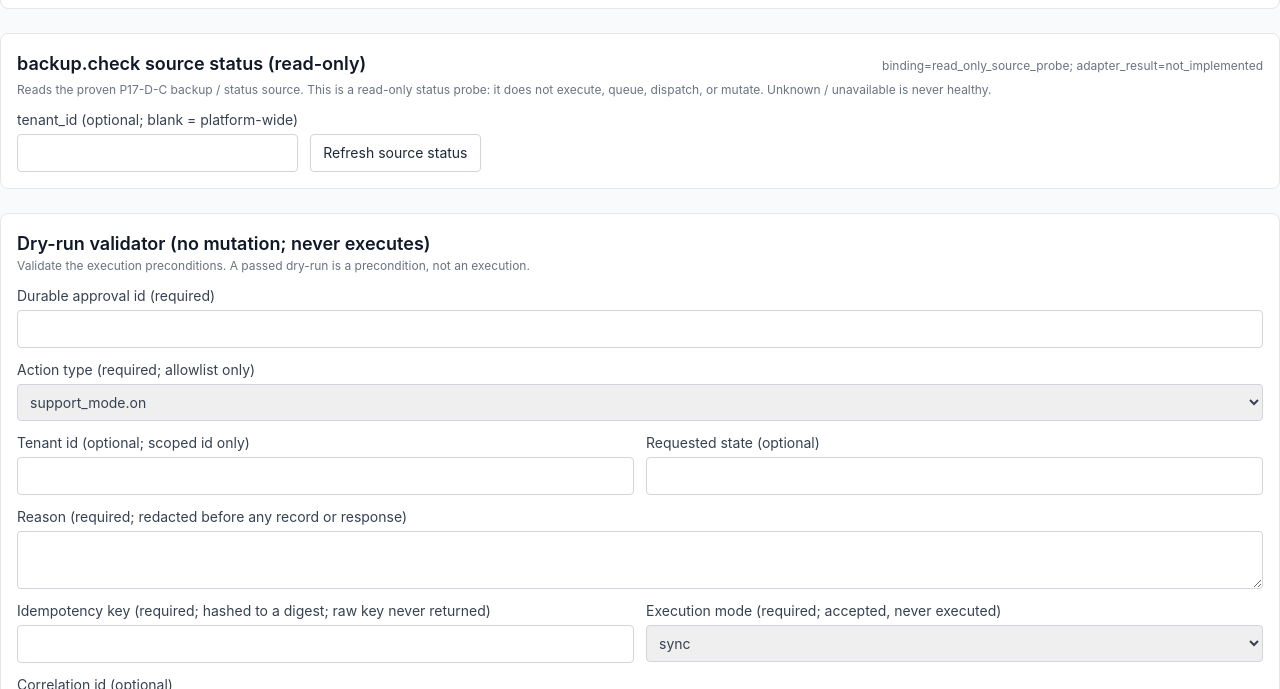
Test: PlatformControlledExecutionConsolePage › P22-P13: editing reason after a passed dry-run forces a fresh dry-run
(page scrolled)
Type "appr-1" into the field with test id "p22-approval-input" at x=640, y=329, box [17,310,1263,348]
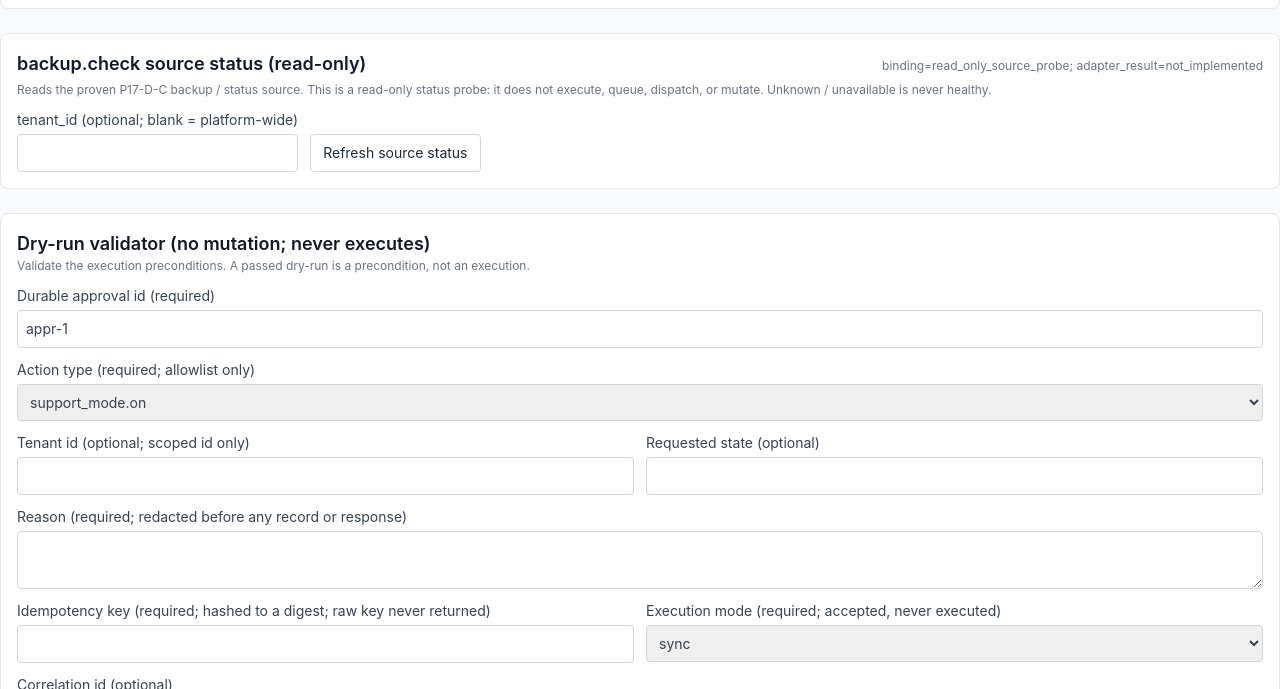
Type "routine review" into the text box with test id "p22-reason-input" at x=640, y=560, box [17,531,1263,589]
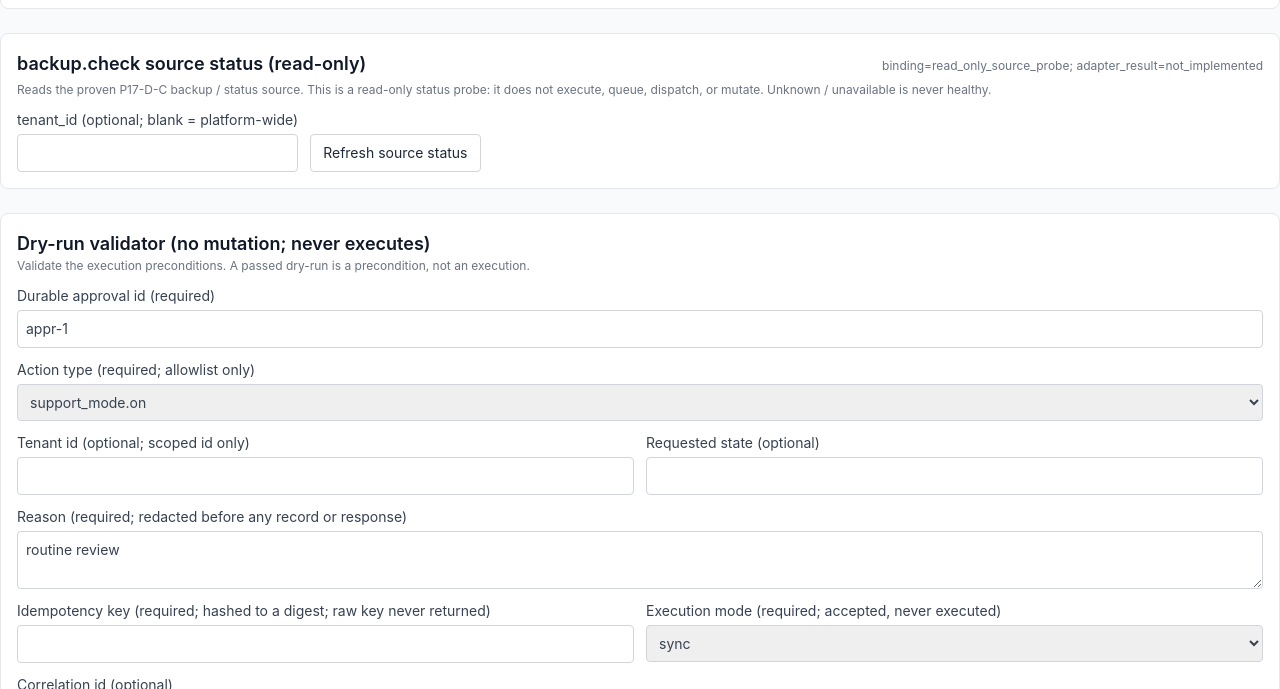
Type "RAW-SECRET-KEY-XYZ" into the field with test id "p22-idempotency-input" at x=326, y=644, box [17,625,634,663]
(page scrolled)
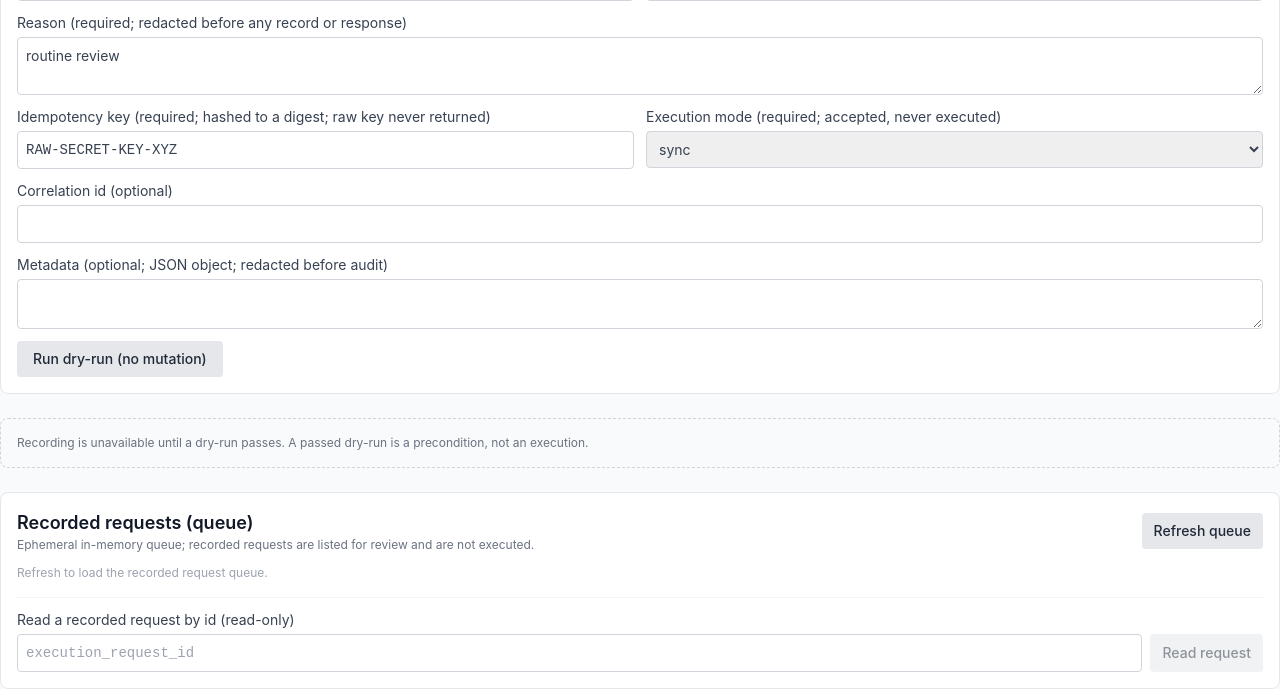
Click the button with test id "p22-dry-run-btn" at x=120, y=359, box [17,341,223,377]
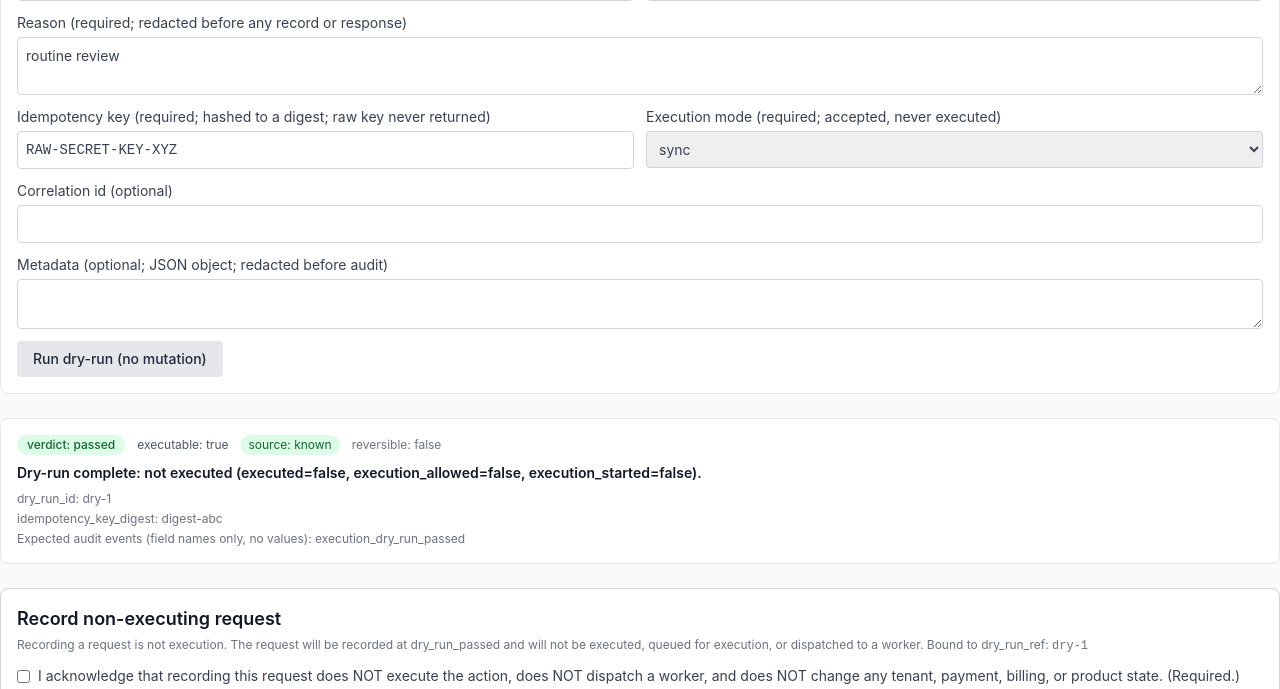
Click the checkbox with test id "p22-ack-input" at x=24, y=676, box [17,670,30,683]
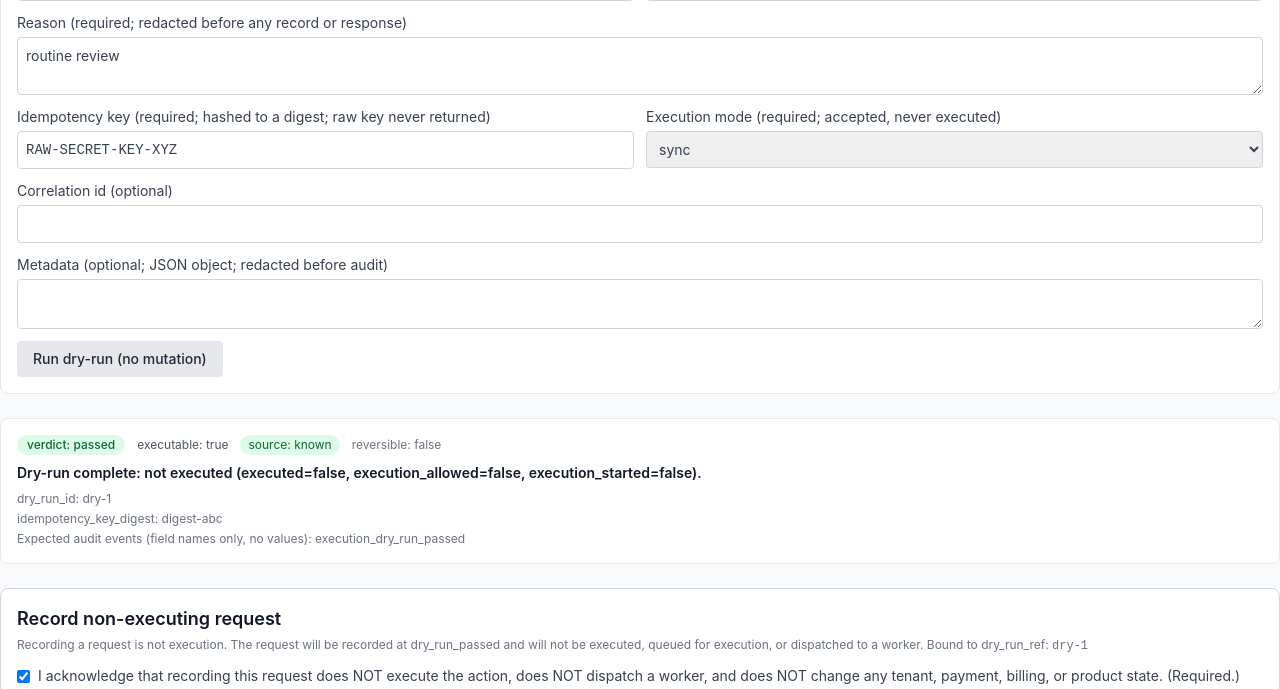
Replace the text in the text box with test id "p22-reason-input" with "changed reason for re-dry-run" at x=640, y=66, box [17,37,1263,95]
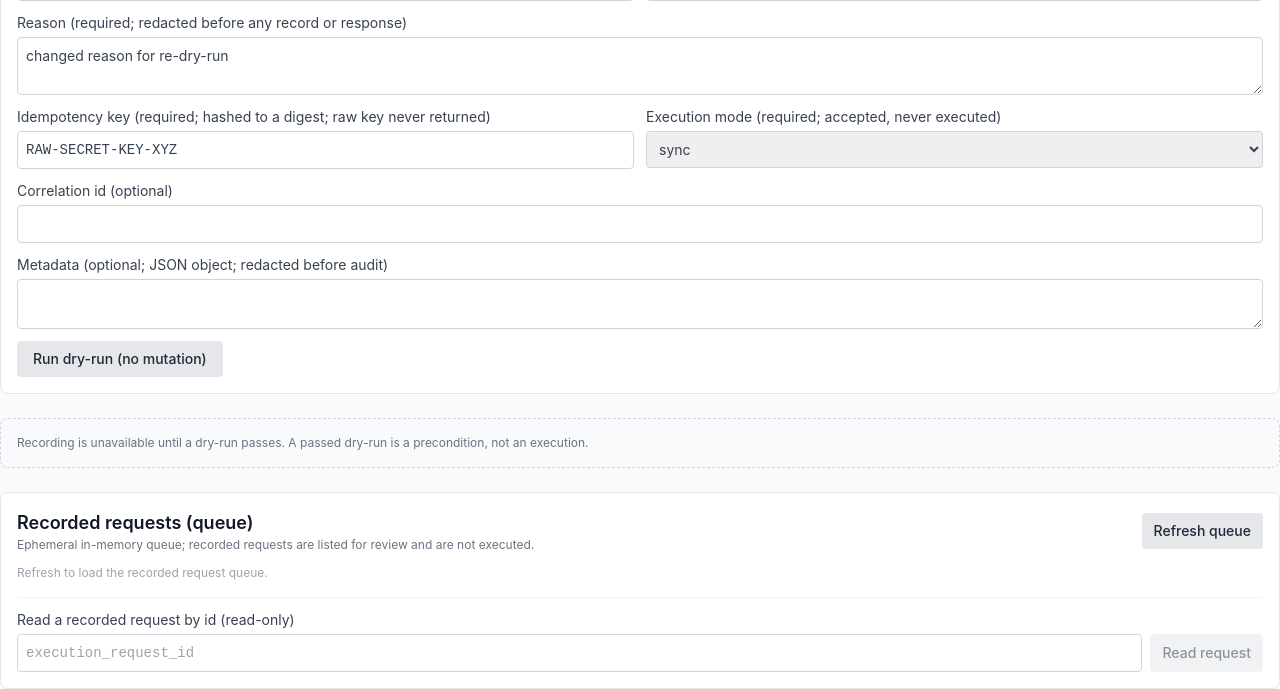
Expected: the checkbox with test id "p22-ack-input" is gone
Expected: the element with test id "p22-record-disabled" is shown, [0,418,1279,468]
